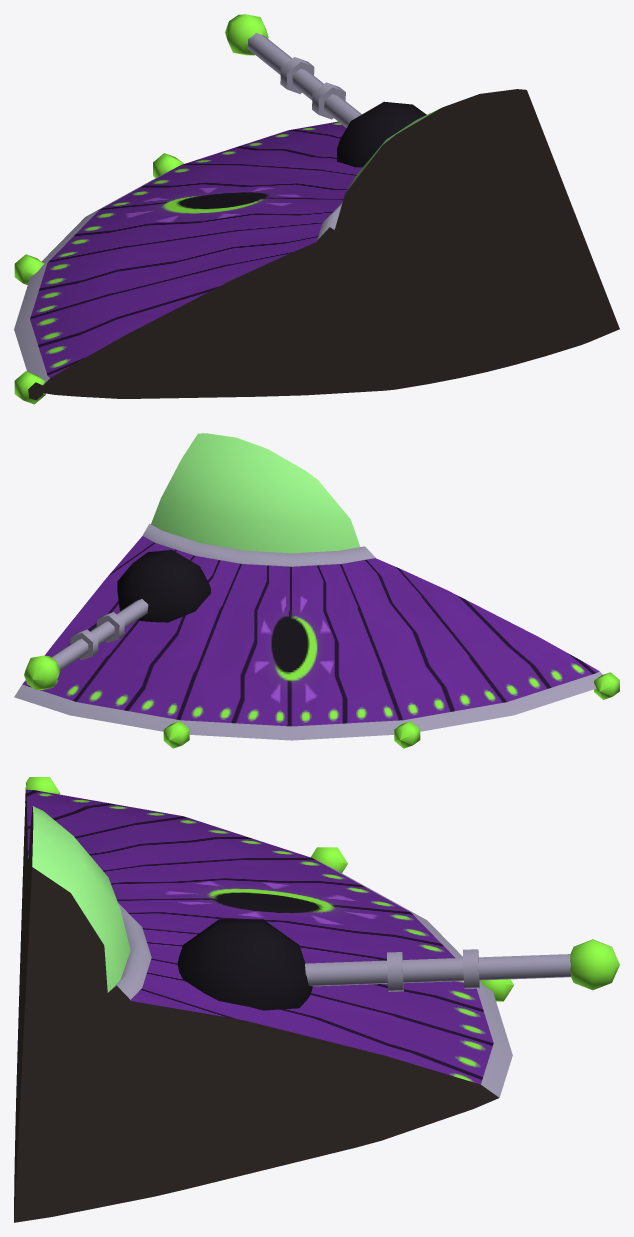
File: raider_saucer_debris1.obj
The picture shows the model from 3 angles, top to bottom: view 1: azimuth 30°, elevation 25°; view 2: azimuth 150°, elevation 25°; view 3: azimuth 270°, elevation 25°; orthographic projection. The views are drawn at different scales.
Parts seen in each view (by area): view 1: disc, dome, turret, ray, rim_light, ray_ring, ray_tip; view 2: disc, dome, turret, dome_ring, rim_light, ray, ray_tip, ray_ring; view 3: disc, dome, turret, ray, dome_ring, ray_tip, rim_light, ray_ring.
Boxes of the visible parts, left/top/right/bottom form: disc: left=14, top=121, right=619, bottom=398; dome: left=334, top=89, right=563, bottom=232; turret: left=337, top=101, right=426, bottom=167; ray: left=247, top=33, right=361, bottom=127; rim_light: left=14, top=153, right=183, bottom=404; ray_ring: left=280, top=57, right=345, bottom=119; ray_tip: left=225, top=14, right=268, bottom=55; disc: left=14, top=536, right=602, bottom=740; dome: left=151, top=433, right=360, bottom=553; turret: left=117, top=550, right=210, bottom=622; dome_ring: left=142, top=523, right=375, bottom=566; rim_light: left=163, top=672, right=619, bottom=748; ray: left=51, top=599, right=148, bottom=670; ray_tip: left=24, top=655, right=60, bottom=689; ray_ring: left=70, top=612, right=124, bottom=660; disc: left=14, top=789, right=512, bottom=1222; dome: left=25, top=806, right=130, bottom=1006; turret: left=177, top=919, right=312, bottom=1010; ray: left=305, top=954, right=571, bottom=986; dome_ring: left=27, top=856, right=151, bottom=1015; ray_tip: left=570, top=939, right=619, bottom=990; rim_light: left=25, top=777, right=513, bottom=1001; ray_ring: left=387, top=949, right=479, bottom=991.
Bounding box in the file's own units: 10.25 × 4.52 × 7.58.
Materials: 6 (1 with a texture image).
